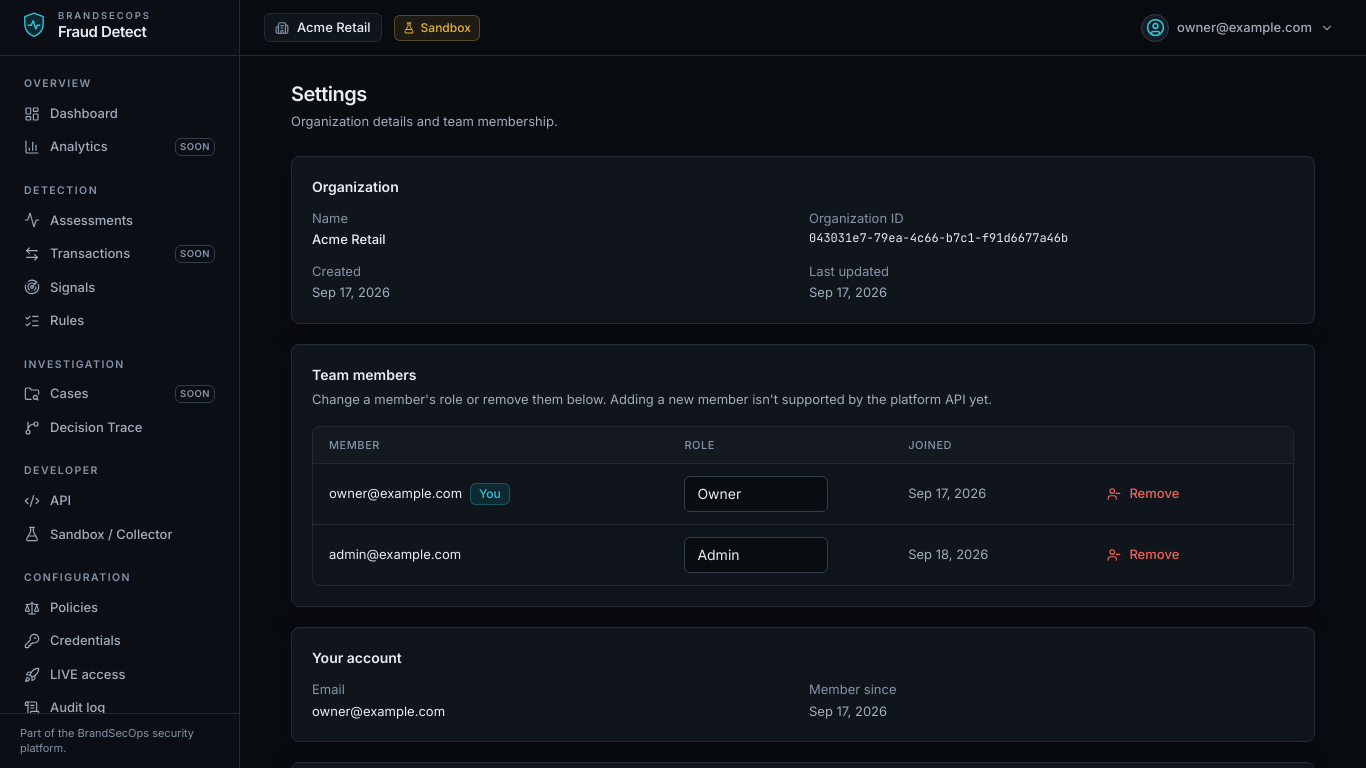
Test: settings: team members management (Wave 39) › a failed removal shows the error inside the confirmation dialog, which stays open
Expected: the text "admin@example.com" is shown, x1=329 y1=546 x2=461 y2=562
Click the button "Remove" in the row of "admin@example.com" at (1143, 555), box x1=1095 y1=539 x2=1191 y2=571
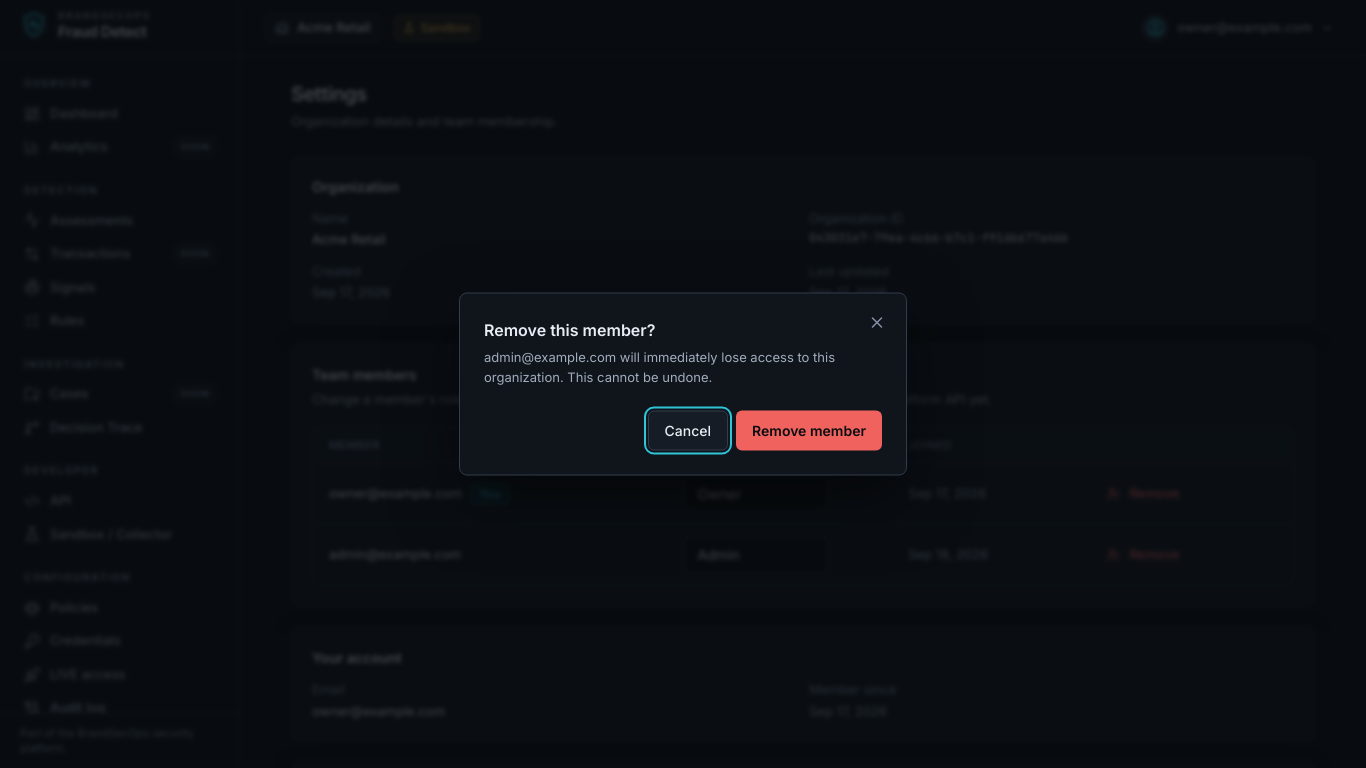
Click the button "Remove member" at (809, 430), box x1=736 y1=410 x2=882 y2=450
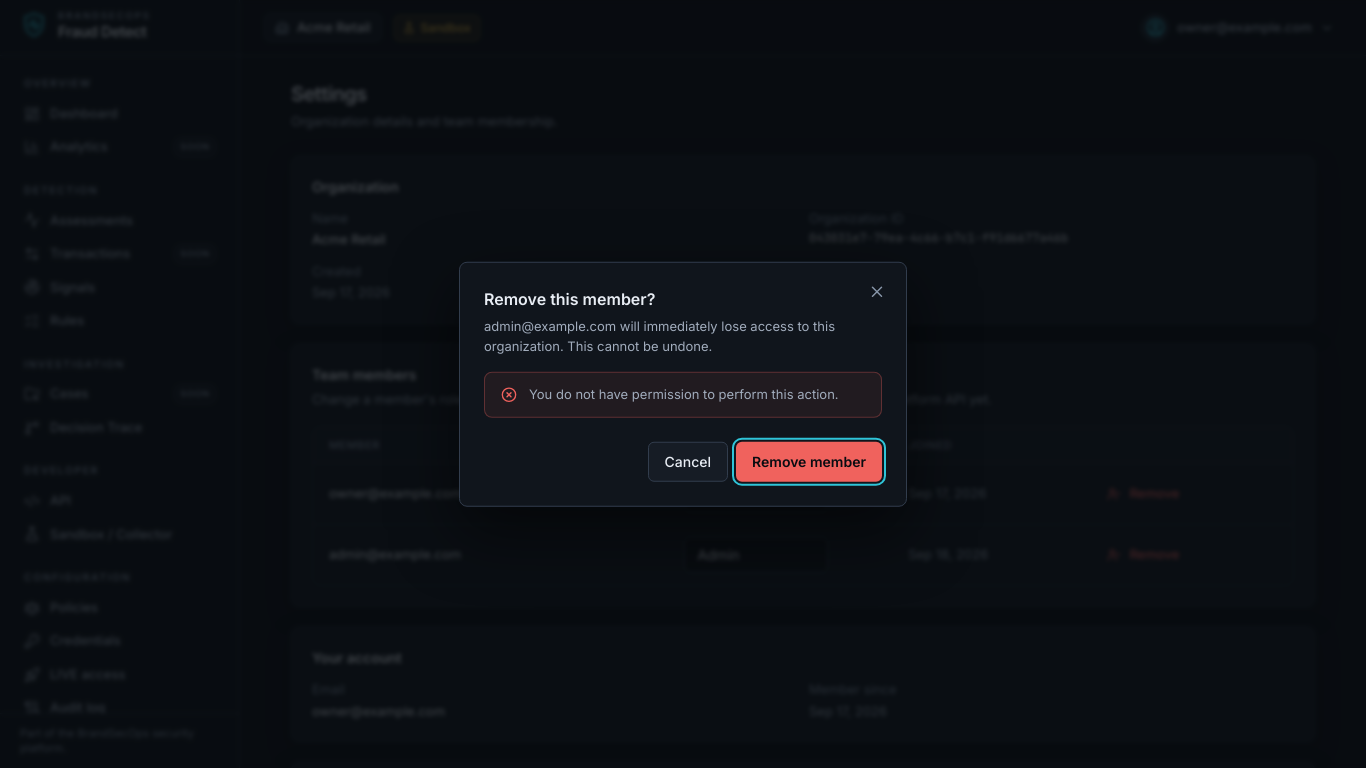
Expected: the dialog "Remove this member?" is shown, x1=459 y1=262 x2=907 y2=506
Expected: the text "You do not have permission to perform this action." is shown, x1=529 y1=385 x2=839 y2=404
